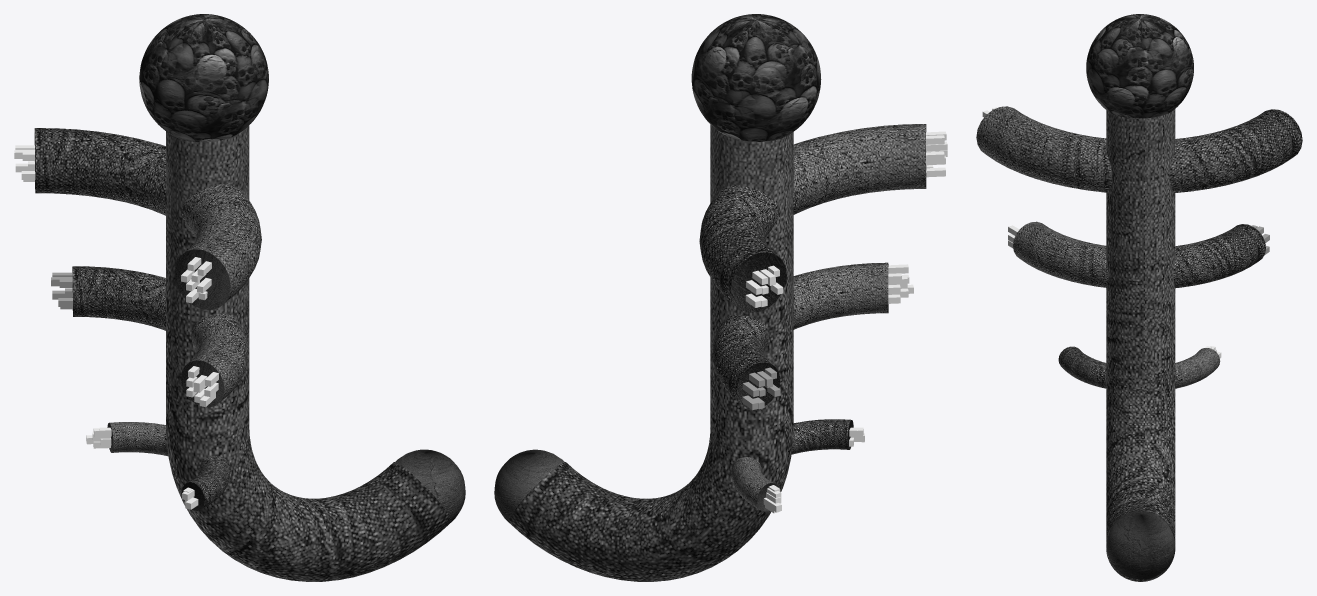
Rendered from FBX True.fbx.
The picture shows the model from 3 angles, left to right: view 1: azimuth 30°, elevation 25°; view 2: azimuth 150°, elevation 25°; view 3: azimuth 270°, elevation 25°; orthographic projection. The views are drawn at different scales.
Visible parts, largest first — view 1: pCylinder1, pCylinder4, pSphere1, pCylinder2, pCylinder3, pSphere2; view 2: pCylinder1, pCylinder4, pSphere1, pCylinder2, pCylinder3, pSphere2; view 3: pCylinder1, pCylinder4, pSphere1, pCylinder2, pSphere2, pCylinder3.
Part boxes in pixels (x1,y1,x2,y2): pCylinder1: [166, 125, 451, 581]; pCylinder4: [34, 128, 261, 309]; pSphere1: [139, 14, 268, 142]; pCylinder2: [72, 266, 248, 407]; pCylinder3: [107, 422, 230, 510]; pSphere2: [395, 449, 465, 521]; pCylinder1: [508, 124, 793, 581]; pCylinder4: [699, 124, 926, 312]; pSphere1: [691, 14, 821, 141]; pCylinder2: [712, 262, 888, 408]; pCylinder3: [731, 419, 853, 511]; pSphere2: [494, 449, 564, 521]; pCylinder1: [1106, 109, 1175, 581]; pCylinder4: [976, 106, 1302, 192]; pSphere1: [1086, 14, 1193, 118]; pCylinder2: [1013, 221, 1265, 288]; pSphere2: [1106, 511, 1175, 579]; pCylinder3: [1058, 346, 1220, 388].
Bounding box in the file's own units: 4.72 × 7.32 × 4.42.
